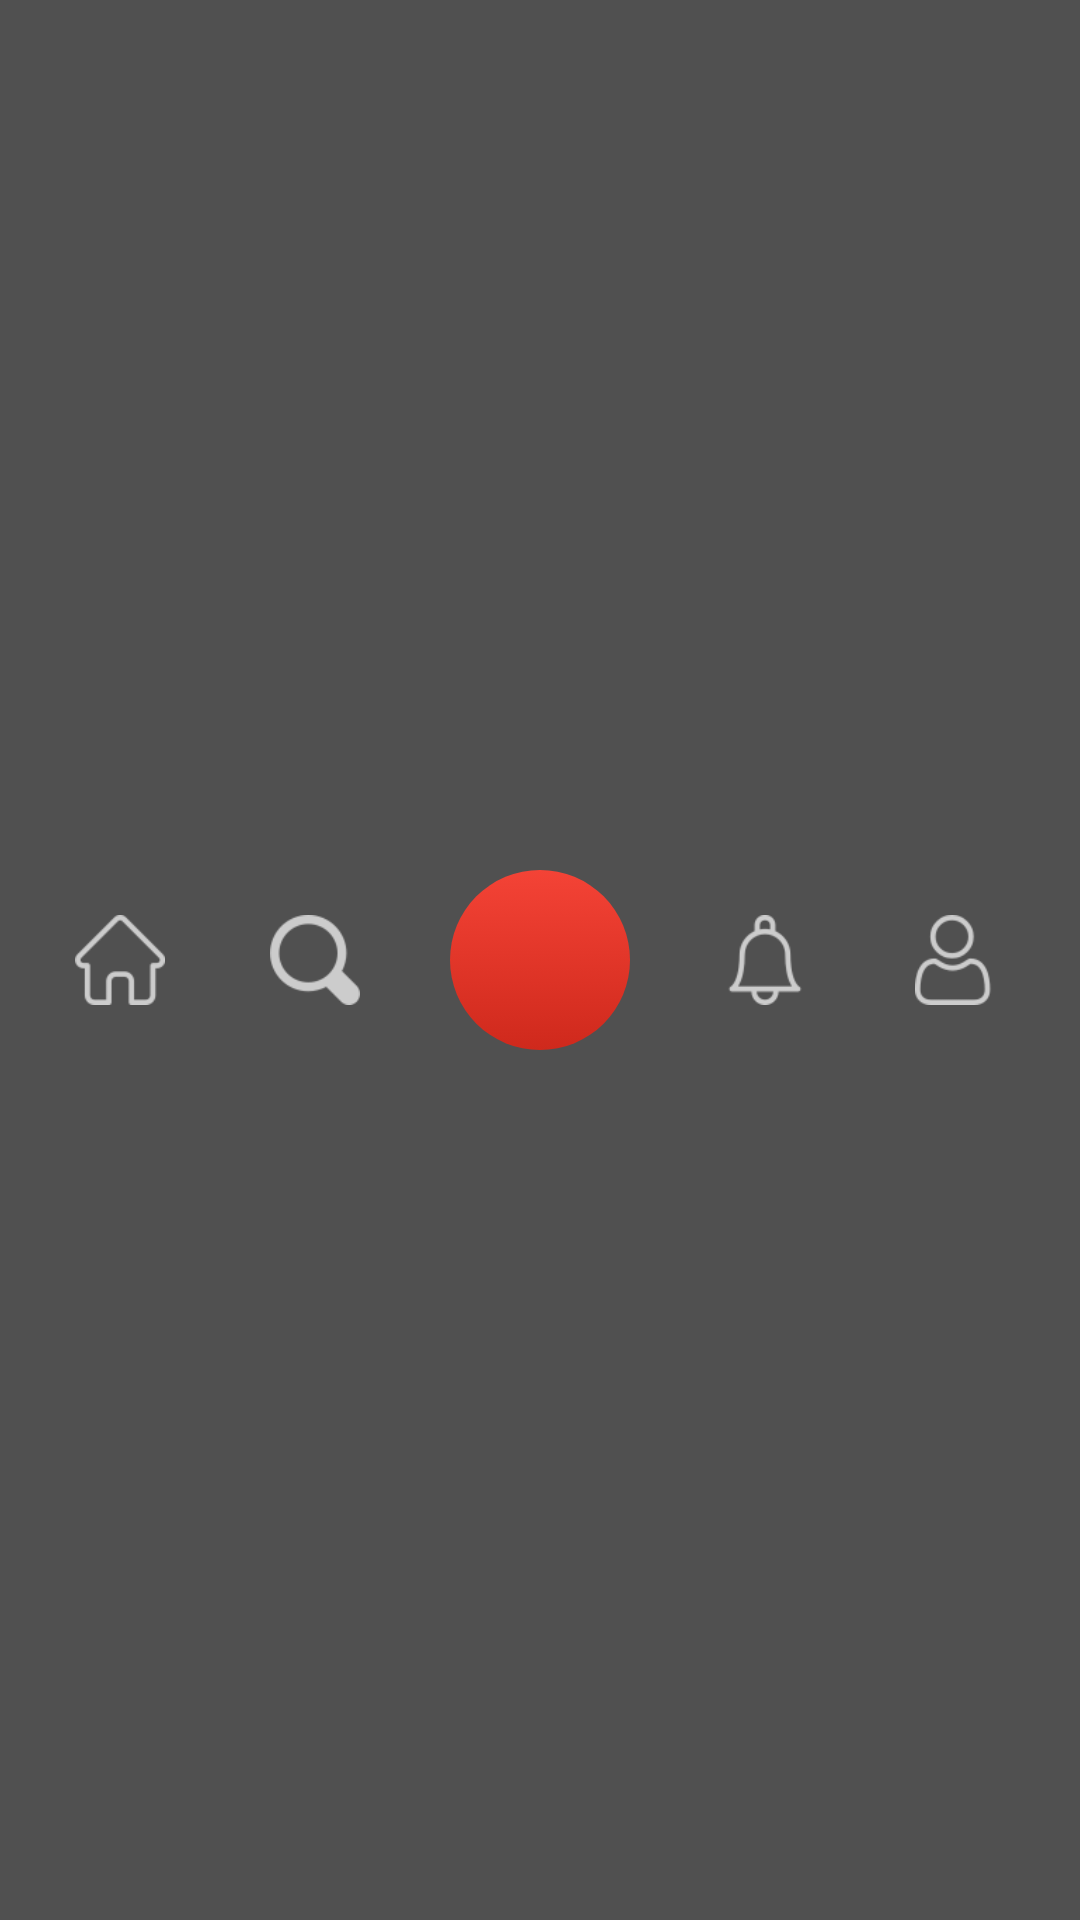

Icon click points for this 1080*1920 phone screenshot, format (x=x, y=y):
bell: (x=765, y=960)
home: (x=120, y=960)
loupe: (x=315, y=960)
user: (x=953, y=960)
